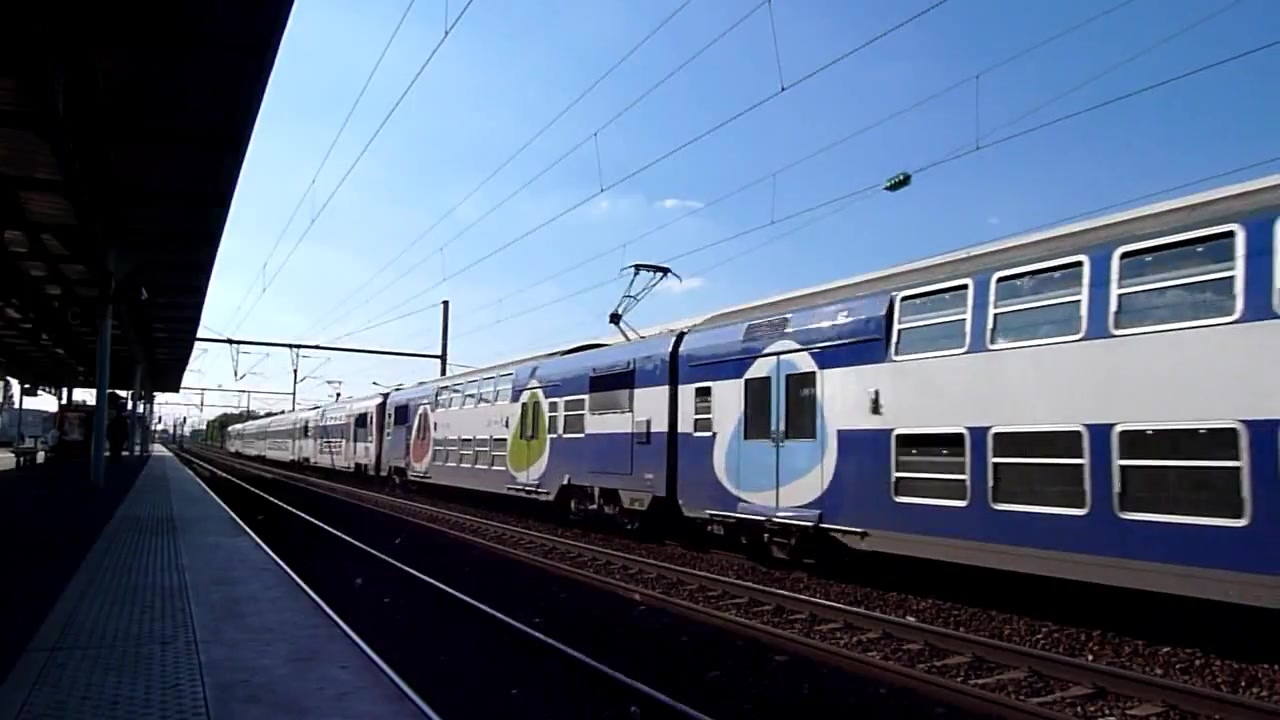train: (222, 171, 1280, 612)
